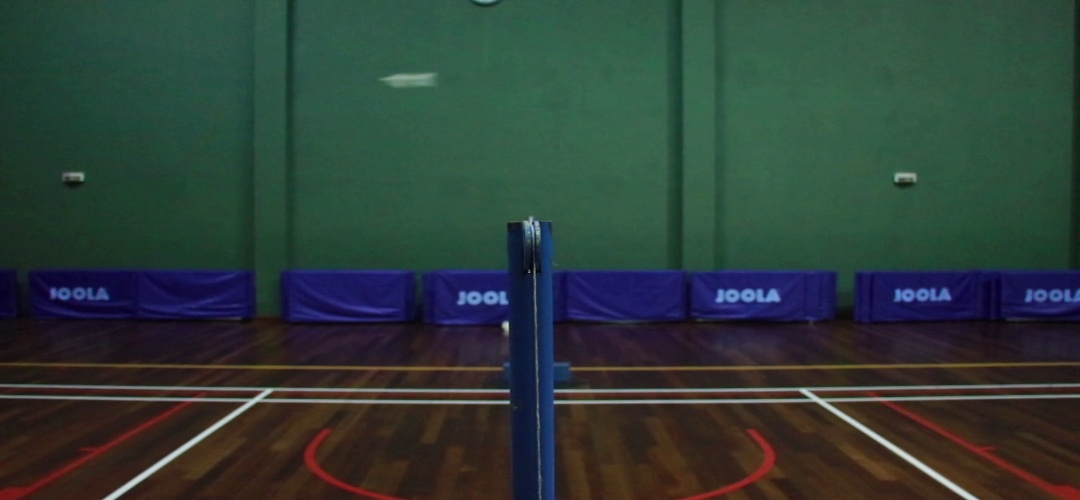c1: (241, 394, 274, 411)
c2: (802, 394, 837, 409)
net_level: (508, 222, 555, 279)
shuttle: (378, 71, 443, 91)
